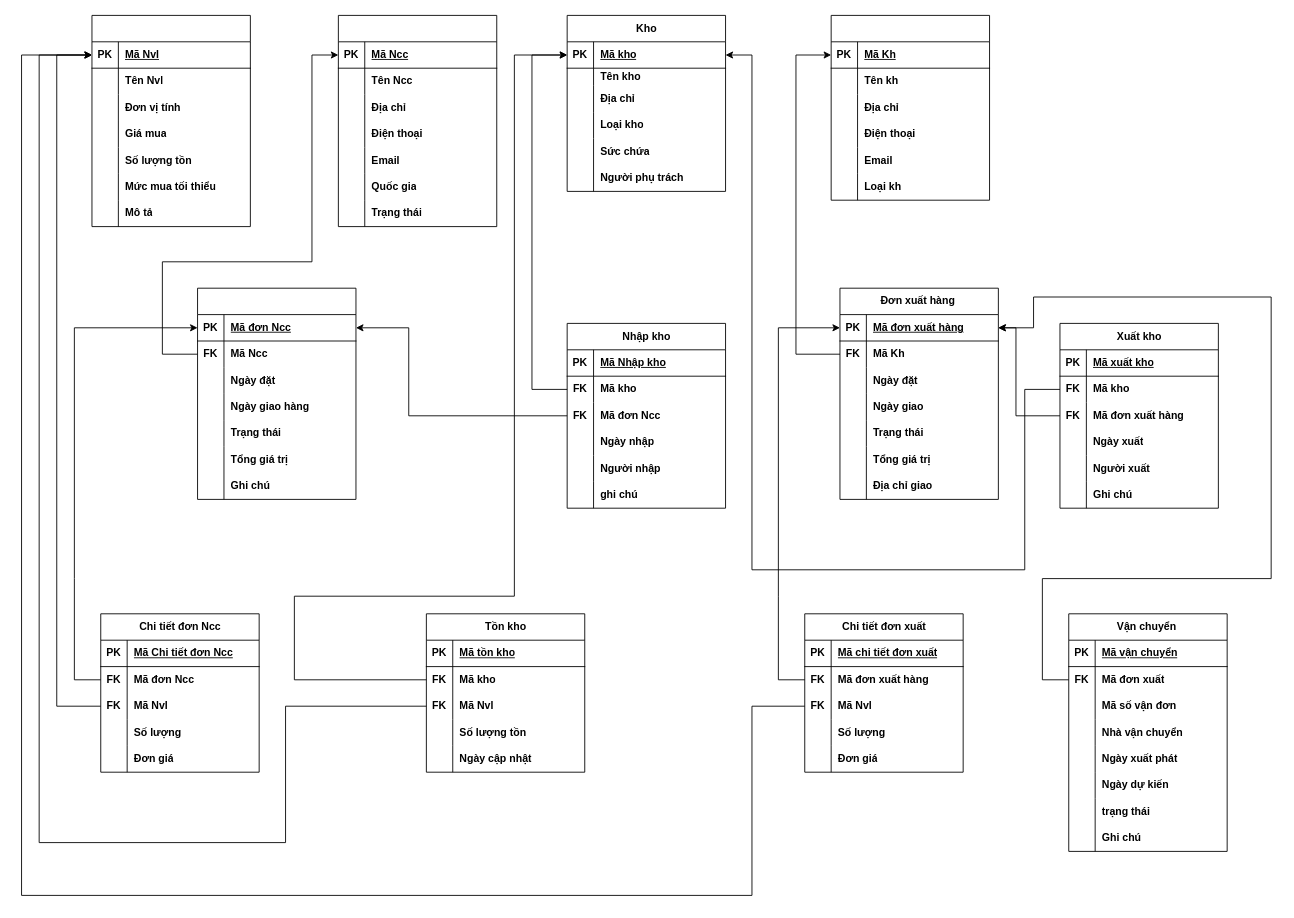
Image size: 1294x918. Some labels were removed from this diagram. Each missing label, with the box of its shape:
Khách hàng: (830, 15, 990, 200)
Nguyên vật liệu: (91, 15, 250, 227)
Nhà cung cấp: (337, 15, 497, 227)
Đơn đặt hàng Ncc: (197, 287, 356, 499)
